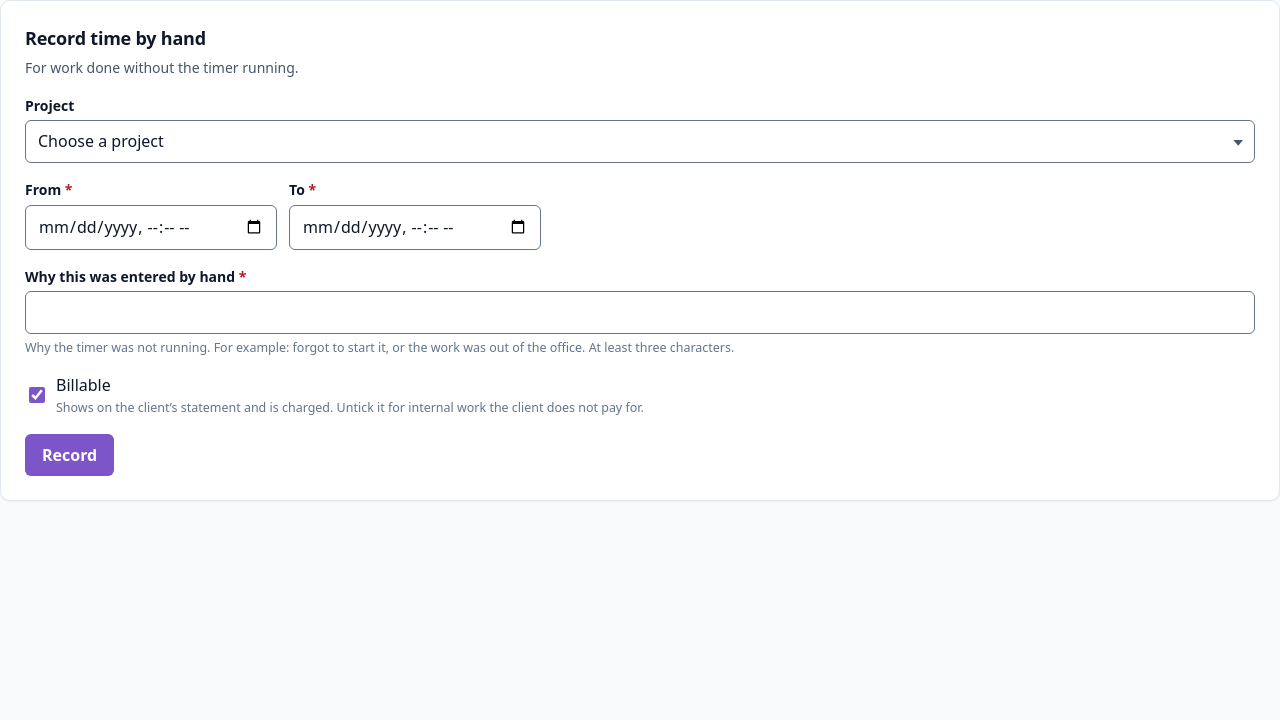
it: time recorded by hand (FR-22) › will not record without a reason
Select "Gulf Trading LLC — VAT return" in the dropdown labelled "Project": (640, 142) [25,120,1255,163]
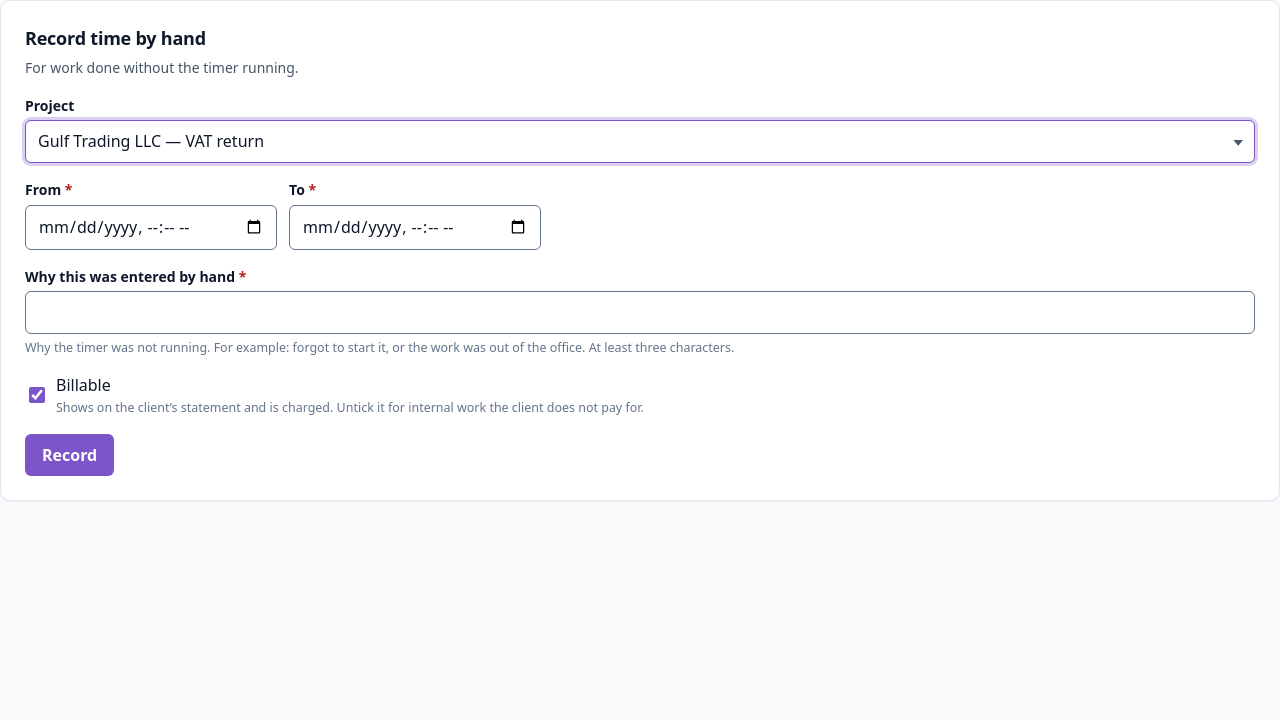
In the field labelled "From": (151, 227) [25,205,277,250], type "2026-09-14T14:00"
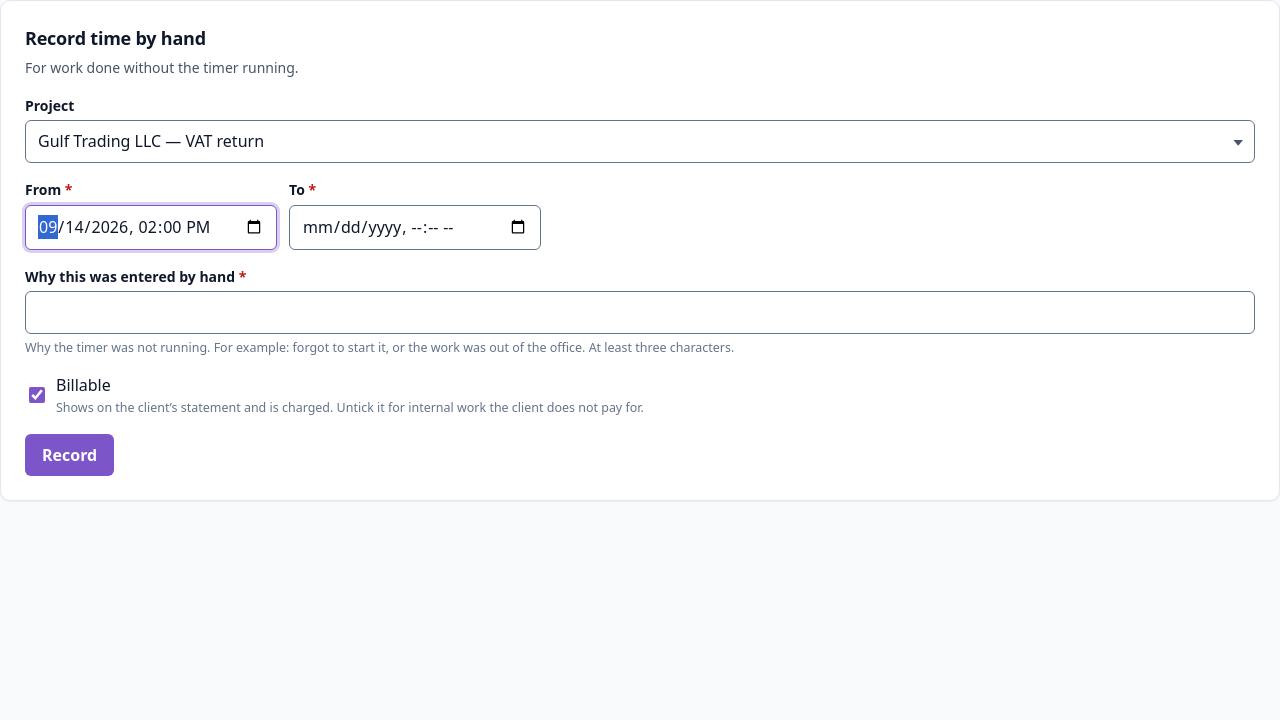
In the field labelled "To": (415, 227) [289,205,541,250], type "2026-09-14T15:45"
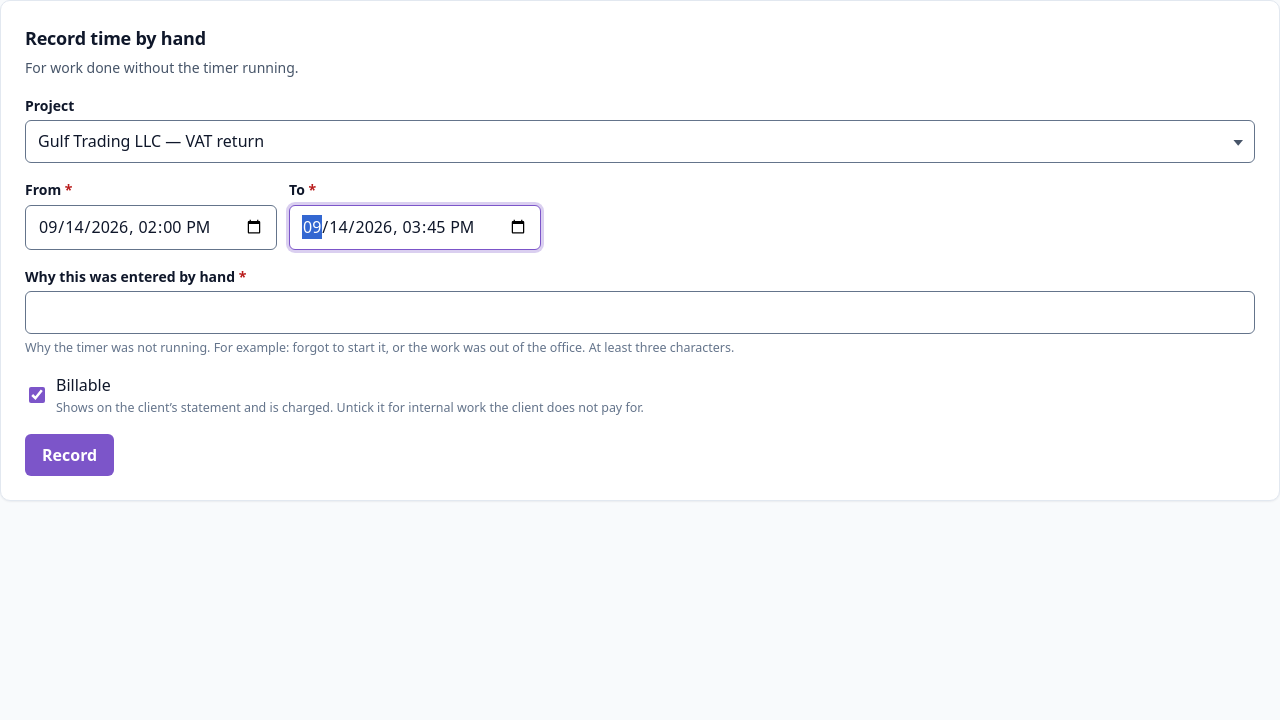
Click the button "Record": (70, 455) [25,434,114,476]
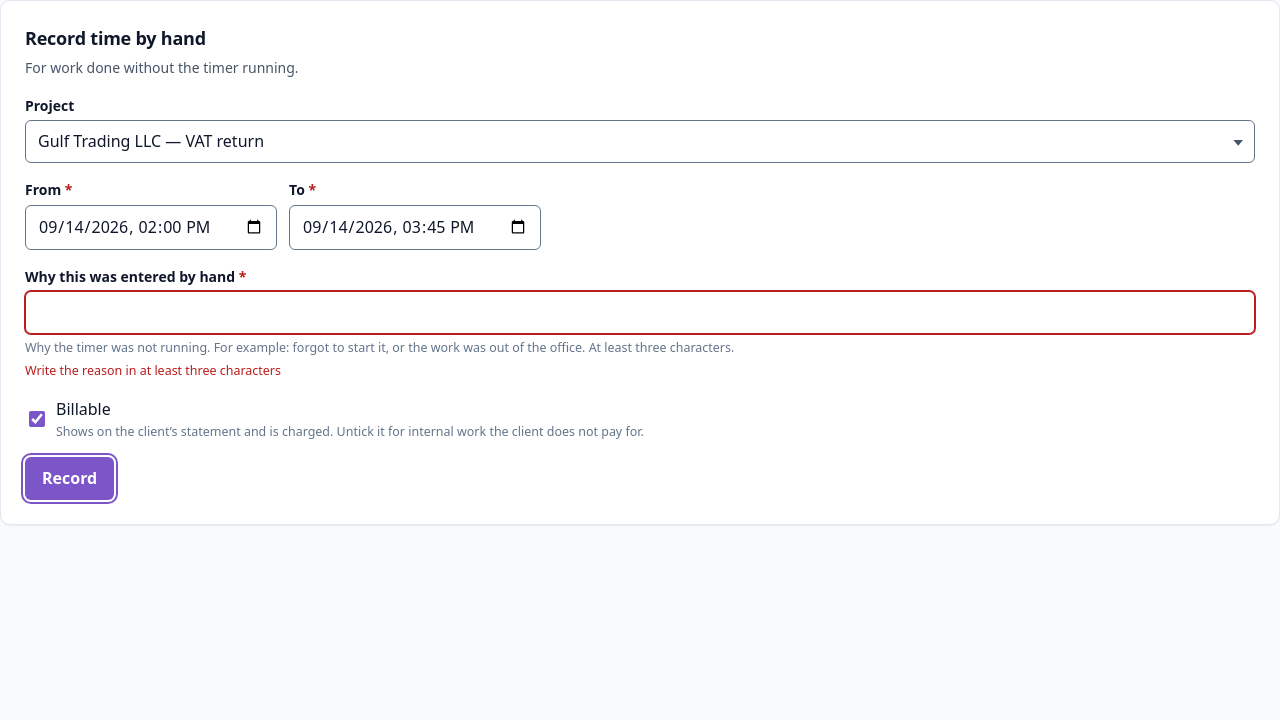
Expected: the text "Write the reason in at least three characters" is shown, [25,362,281,379]
